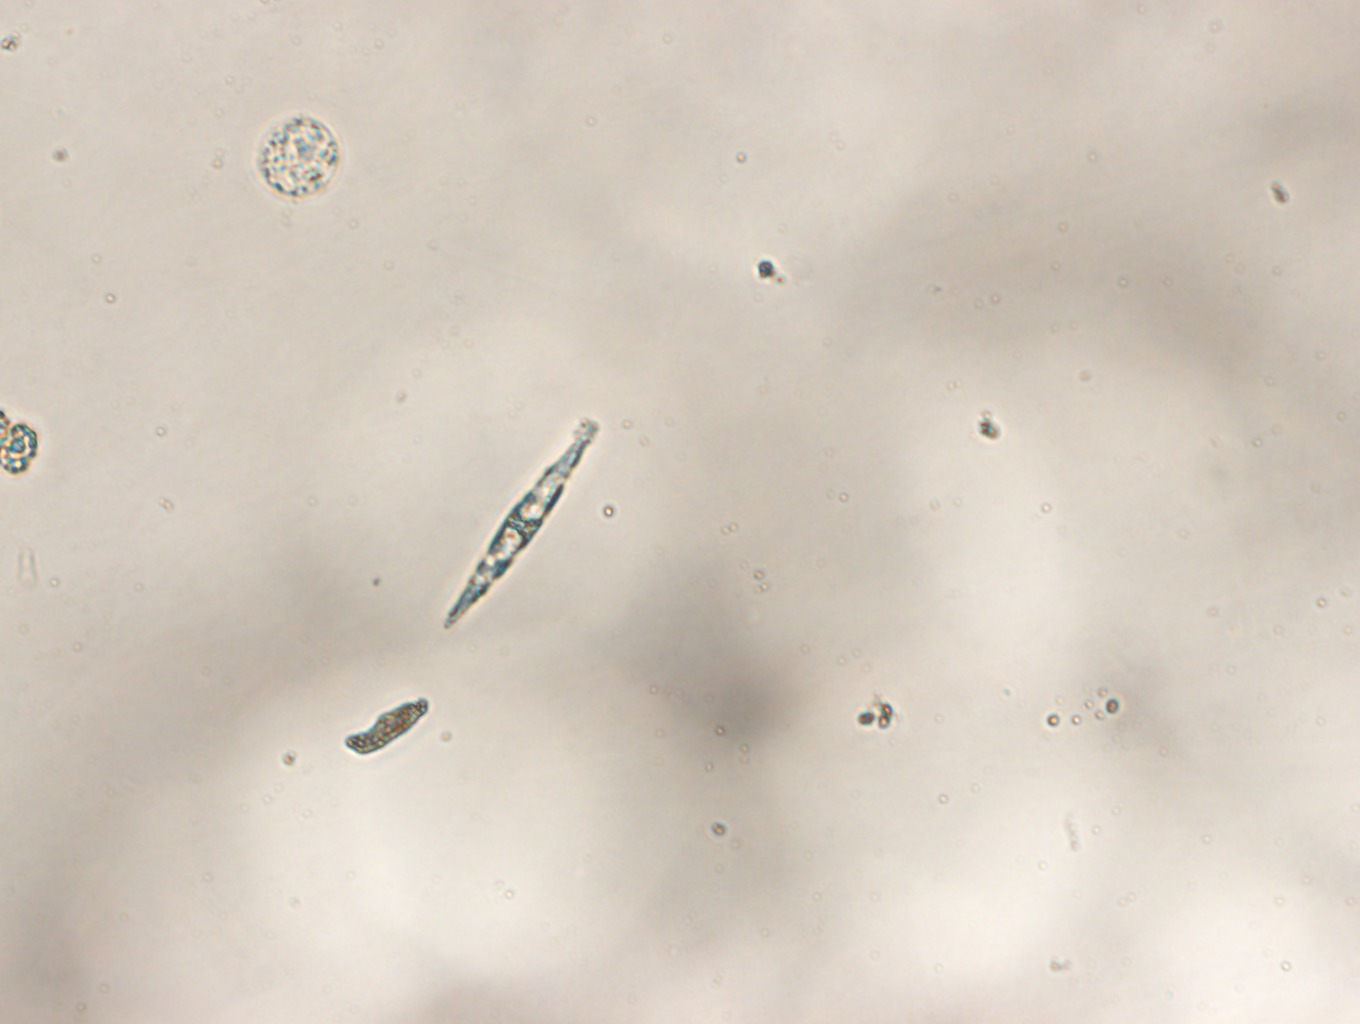navicula: (444, 430, 591, 627)
